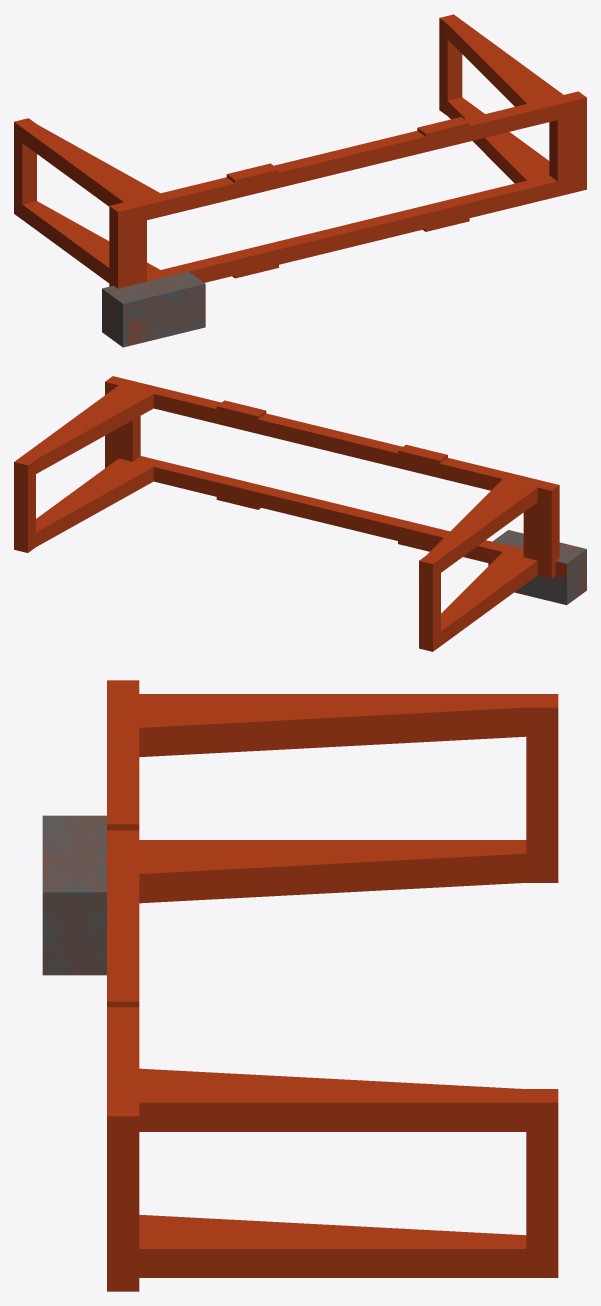
The model's file is gantry_crane.dae.
3 renders of one model, top to bottom at view 1: azimuth 30°, elevation 25°; view 2: azimuth 150°, elevation 25°; view 3: azimuth 270°, elevation 25°, orthographic. The views are drawn at different scales.
Parts seen in each view (by area): view 1: coords_ME_ID13_MA_material_29, coords_ME_ID19_MA__96_96_96, coords_ME_ID19_MA_material_29; view 2: coords_ME_ID13_MA_material_29, coords_ME_ID19_MA__96_96_96, coords_ME_ID19_MA_material_29; view 3: coords_ME_ID13_MA_material_29, coords_ME_ID19_MA__96_96_96, coords_ME_ID19_MA_material_29.
Part boxes in pixels (x1=…): coords_ME_ID13_MA_material_29: x1=14, y1=14, x2=586, y2=288; coords_ME_ID19_MA__96_96_96: x1=102, y1=271, x2=205, y2=347; coords_ME_ID19_MA_material_29: x1=102, y1=272, x2=205, y2=346; coords_ME_ID13_MA_material_29: x1=14, y1=376, x2=566, y2=651; coords_ME_ID19_MA__96_96_96: x1=488, y1=530, x2=586, y2=605; coords_ME_ID19_MA_material_29: x1=495, y1=530, x2=586, y2=603; coords_ME_ID13_MA_material_29: x1=107, y1=680, x2=558, y2=1291; coords_ME_ID19_MA__96_96_96: x1=42, y1=815, x2=106, y2=975; coords_ME_ID19_MA_material_29: x1=42, y1=815, x2=106, y2=975.
Bounding box in the file's own units: 56.5 × 13.93 × 27.56.
